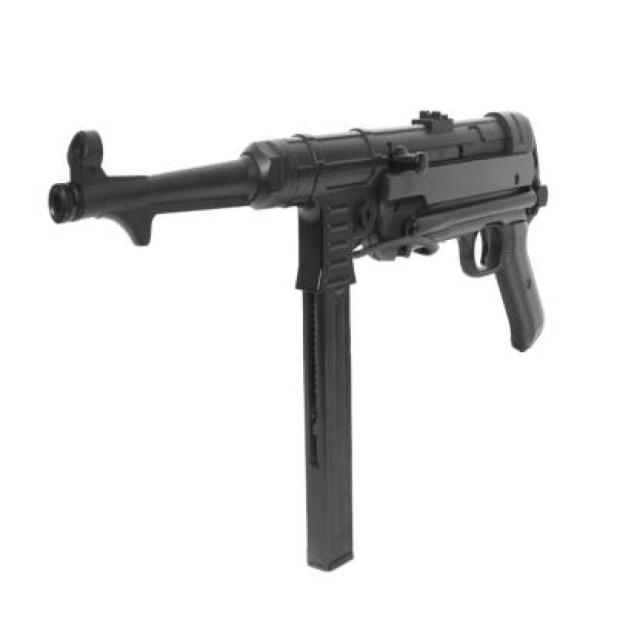weapon: (49, 107, 548, 574)
